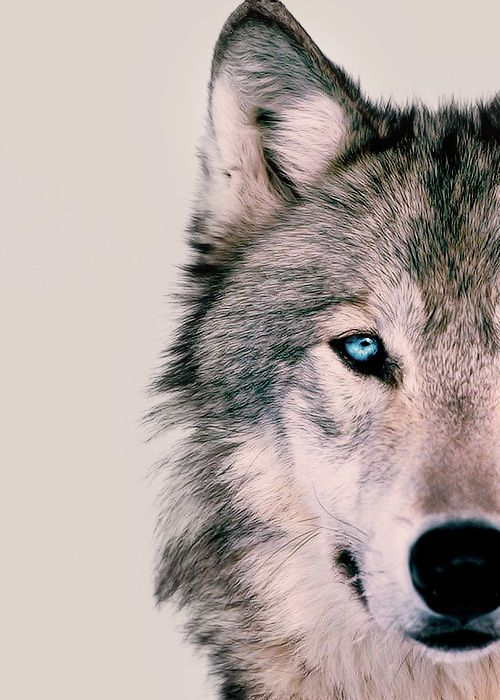Lobo: (155, 1, 500, 700)
